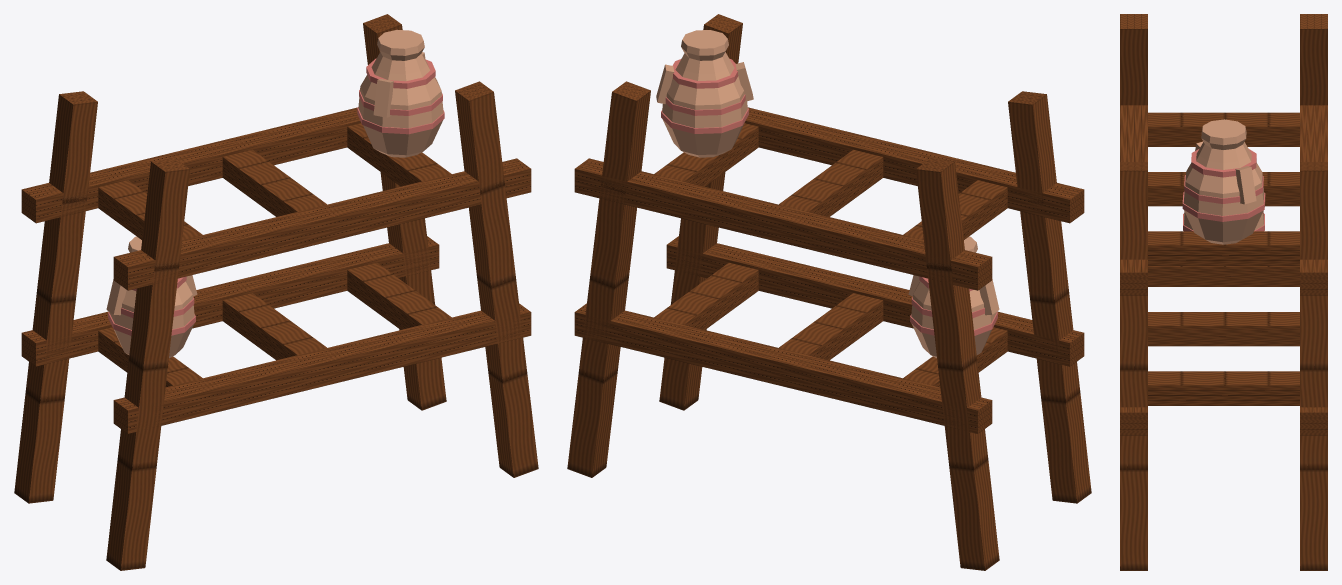
File: andean-terraces-and-stone-village-jar-rack-e2156f58__38264.glb
The picture shows the model from 3 angles, left to right: view 1: azimuth 30°, elevation 25°; view 2: azimuth 150°, elevation 25°; view 3: azimuth 270°, elevation 25°; orthographic projection. The views are drawn at different scales.
Parts seen in each view (by area): view 1: jar-rack-timber, jar-rack-clay, jar-rack-cloth; view 2: jar-rack-timber, jar-rack-clay, jar-rack-cloth; view 3: jar-rack-timber, jar-rack-clay, jar-rack-cloth.
Boxes of the visible parts, x1,y1,x2,y2 form: jar-rack-timber: (14, 14, 538, 570); jar-rack-clay: (106, 29, 443, 358); jar-rack-cloth: (108, 58, 444, 335); jar-rack-timber: (567, 14, 1091, 570); jar-rack-clay: (656, 30, 999, 358); jar-rack-cloth: (661, 58, 997, 335); jar-rack-timber: (1120, 14, 1327, 570); jar-rack-clay: (1183, 119, 1264, 244); jar-rack-cloth: (1182, 149, 1265, 231).
Bounding box in the file's own units: 1.68 × 1.59 × 0.7399.
3 materials, 1 textured.
